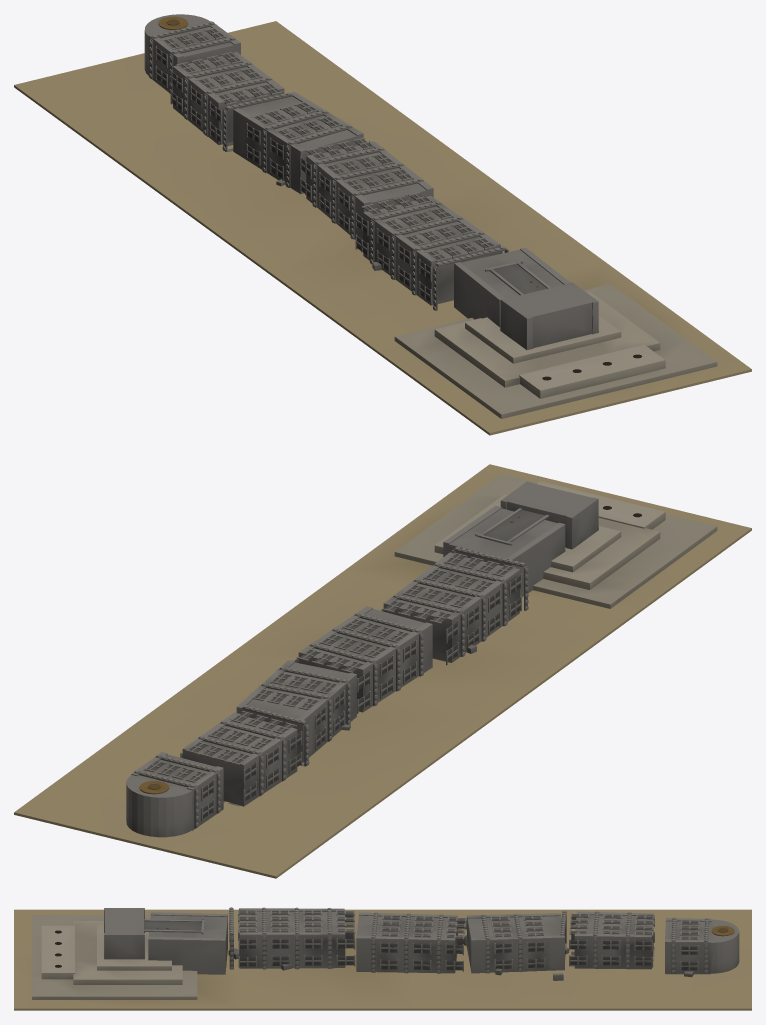
File: great-stele-fallen.glb
3 views of the same model, one above another, from view 1: azimuth 30°, elevation 25°; view 2: azimuth 150°, elevation 25°; view 3: azimuth 270°, elevation 25° (orthographic). The views are drawn at different scales.
Parts seen in each view (by area): view 1: p0_platform, p1_stele; view 2: p0_platform, p1_stele; view 3: p0_platform, p1_stele.
Part boxes in pixels (bbox=[...]): p0_platform: bbox=[14, 21, 751, 435]; p1_stele: bbox=[144, 14, 598, 350]; p0_platform: bbox=[14, 464, 751, 878]; p1_stele: bbox=[126, 481, 598, 837]; p0_platform: bbox=[14, 909, 751, 1010]; p1_stele: bbox=[104, 907, 739, 974].
Bounding box in the file's own units: 14 × 2.6 × 44.
